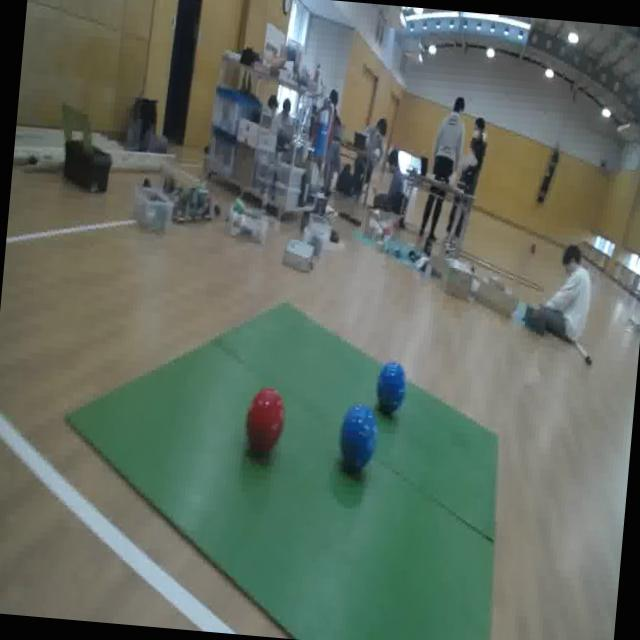blue_ball: (336, 401, 374, 474), (372, 358, 408, 417)
red_ball: (240, 381, 288, 458)
